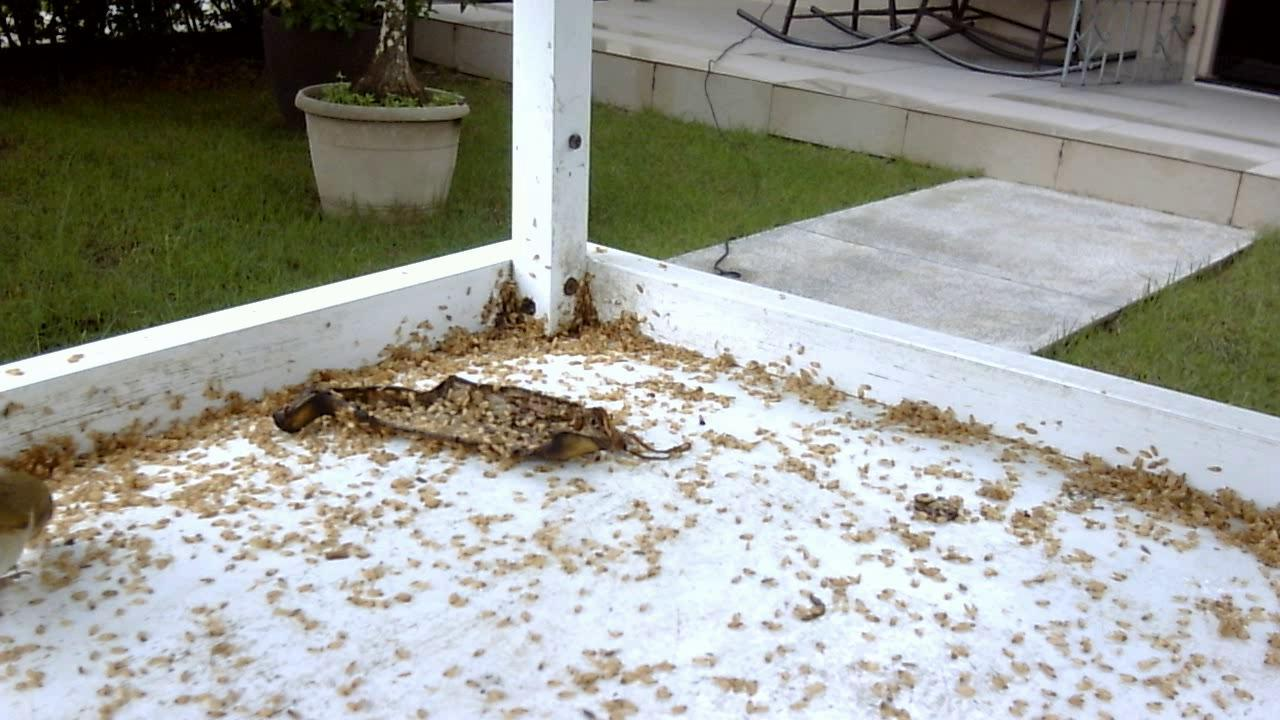canario_do_amazonas: (1, 452, 66, 606)
